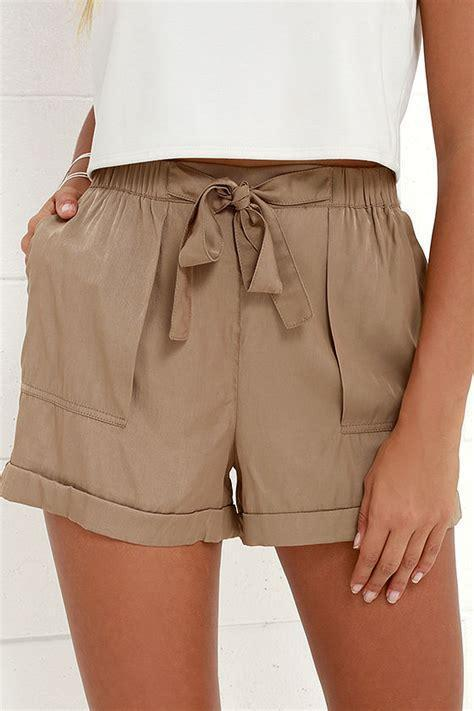short: (0, 156, 462, 546)
